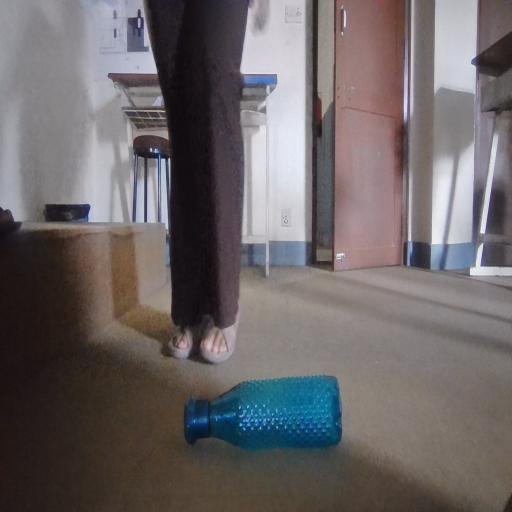Bottle: (167, 369, 376, 488)
